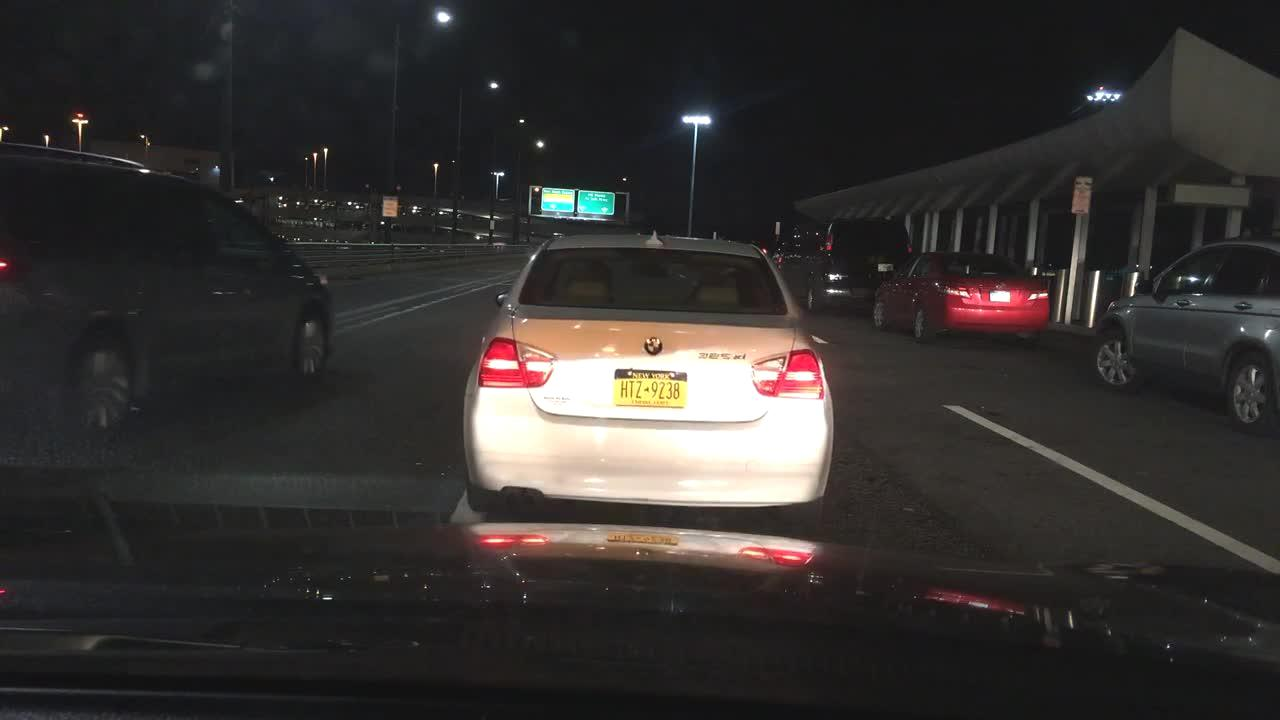bmw: (635, 330, 673, 362)
